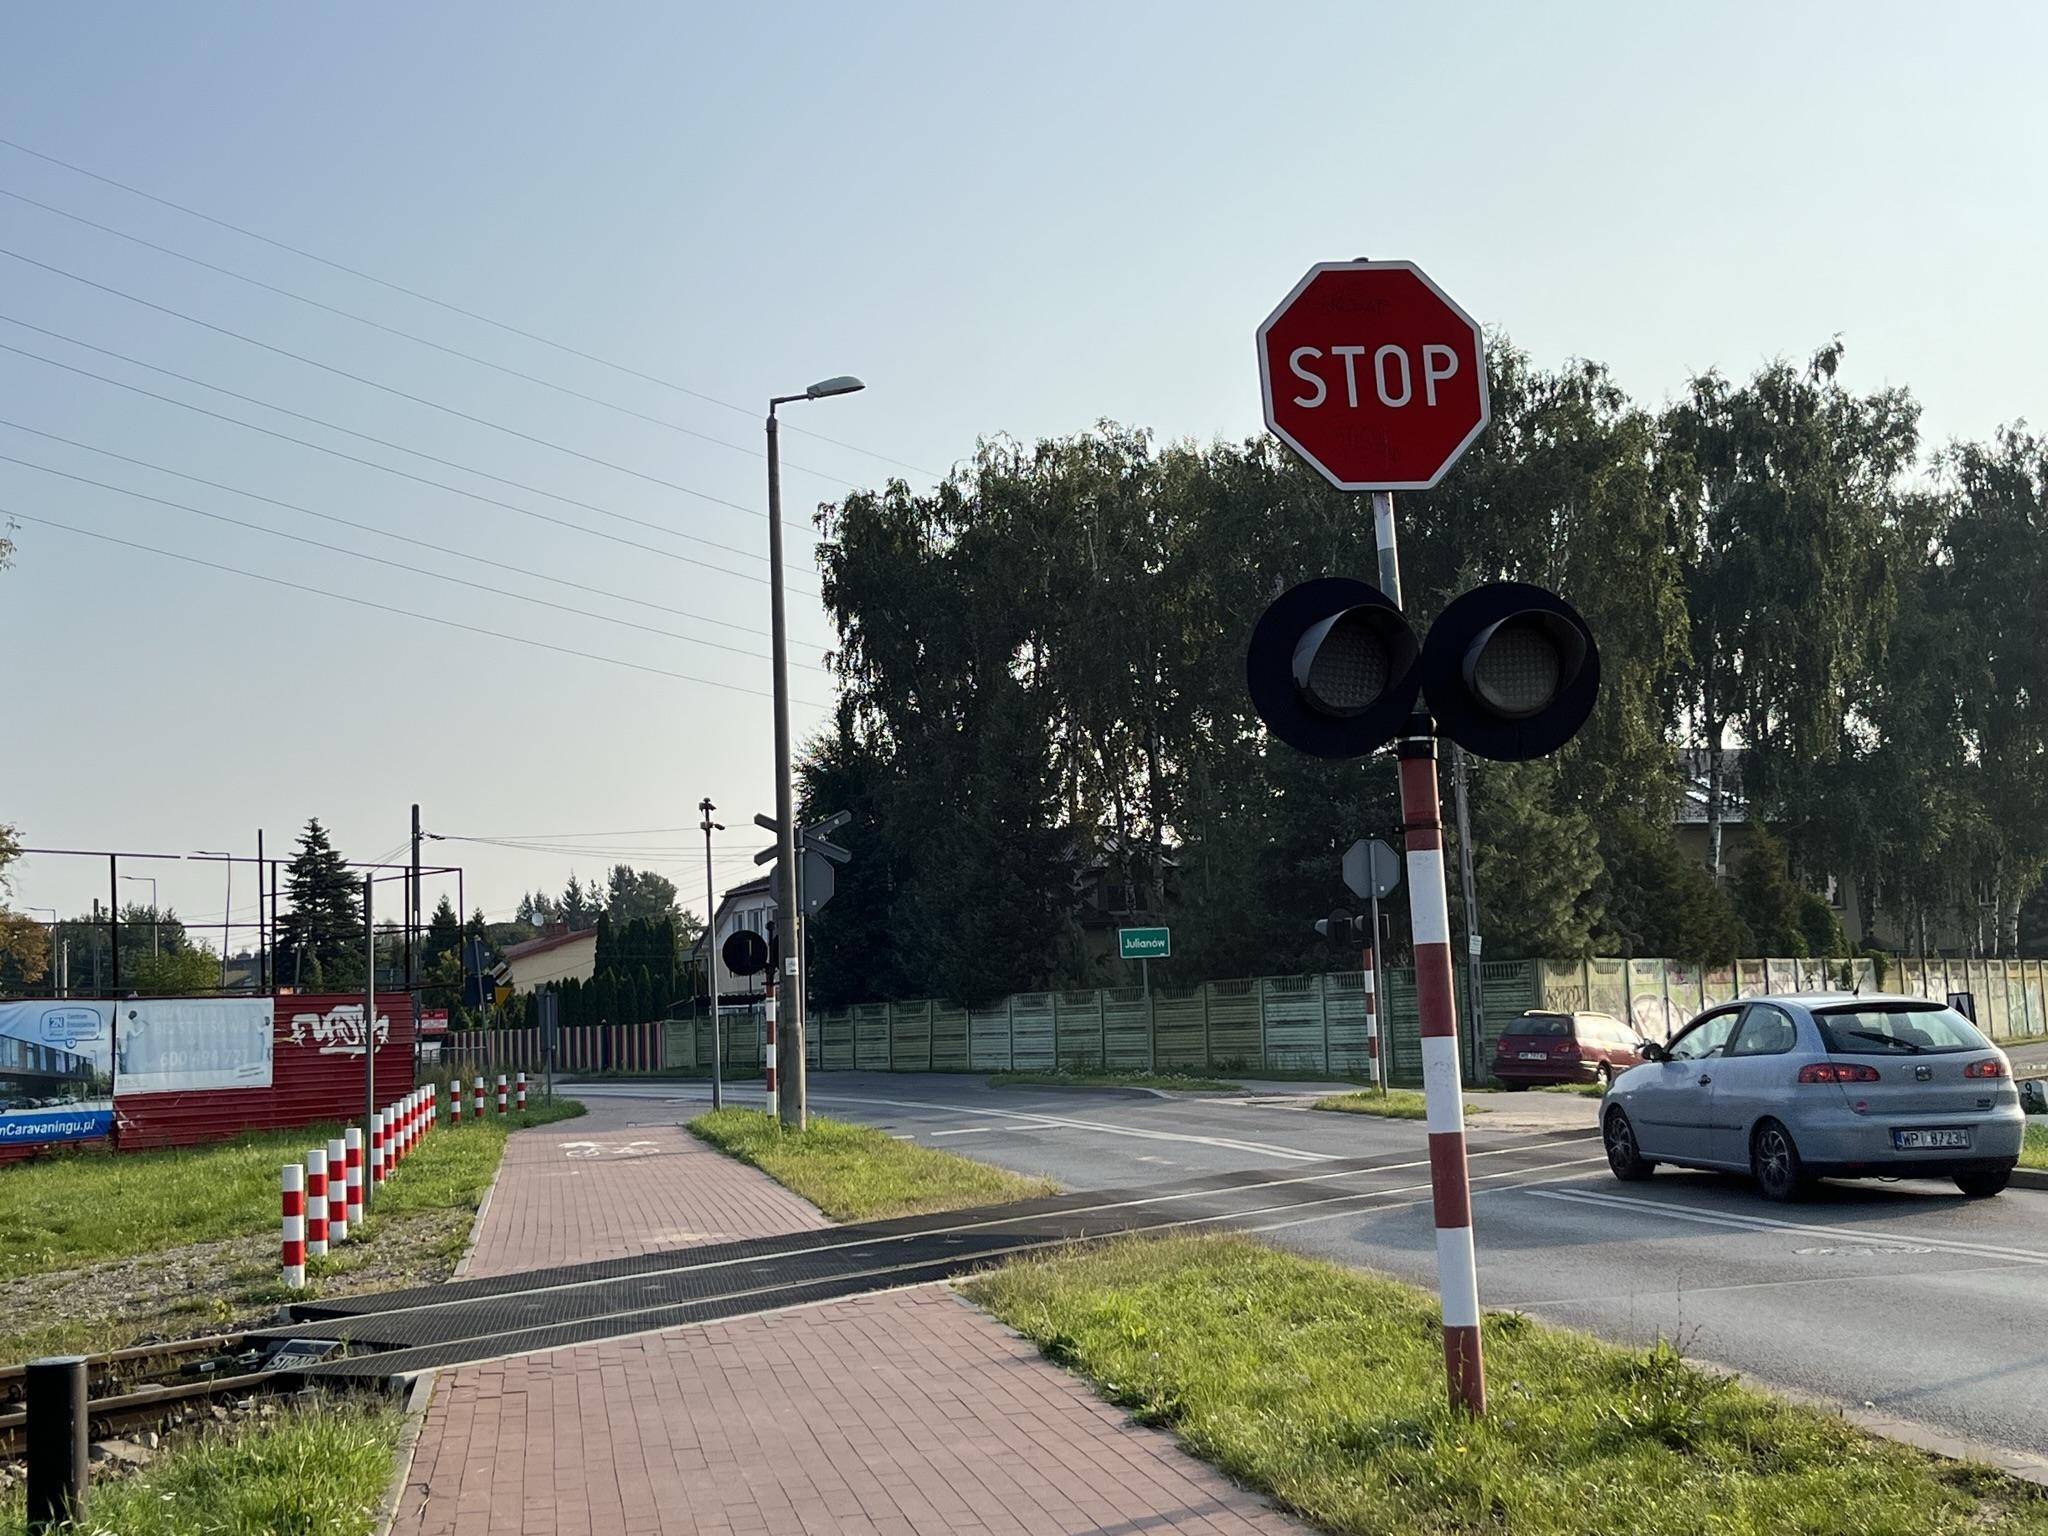direction-city: (1121, 928, 1168, 957)
information: (490, 962, 513, 986)
prohibitory: (1255, 257, 1490, 492)
warning: (495, 987, 513, 1008)
